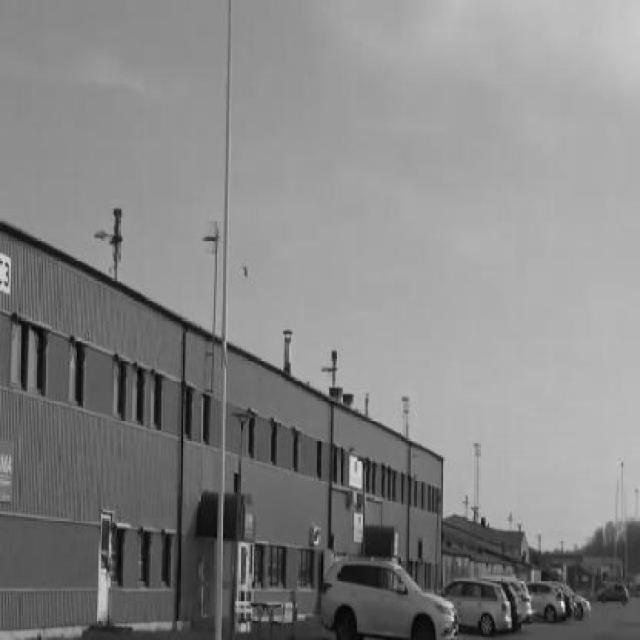helikopter: (238, 262, 252, 280)
